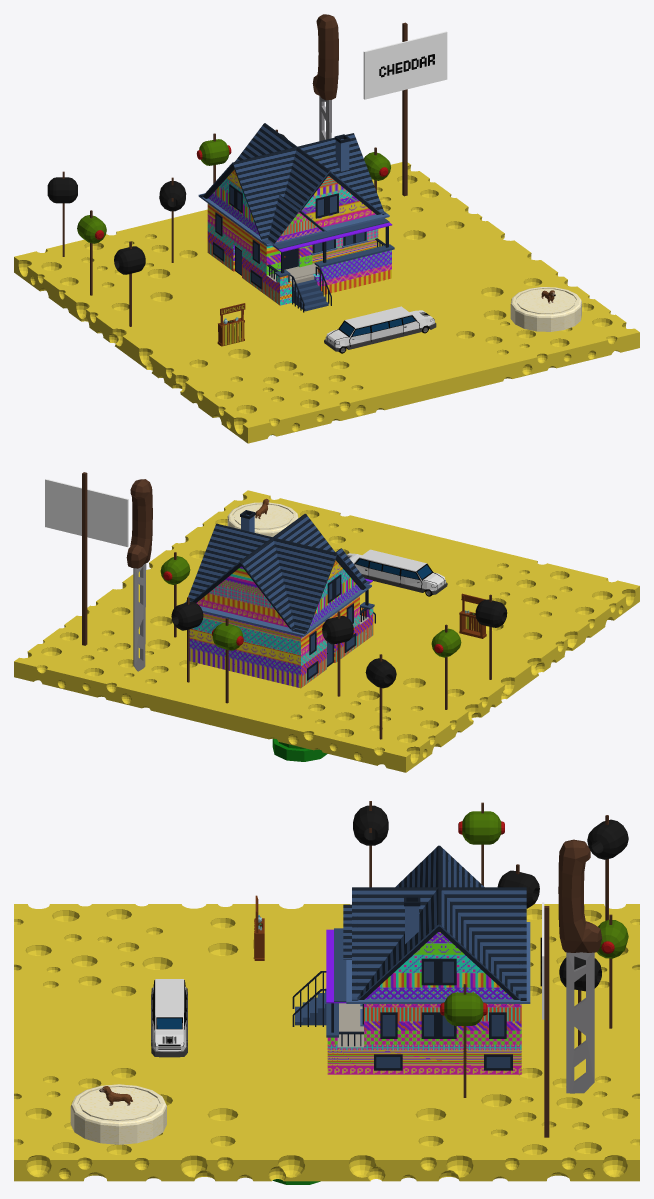
The picture shows the model from 3 angles, top to bottom: view 1: azimuth 30°, elevation 25°; view 2: azimuth 150°, elevation 25°; view 3: azimuth 270°, elevation 25°; orthographic projection. The views are drawn at different scales.
Visible parts, largest first — view 1: Cube.022, Cube.676, Cube.023, VEHICLES_LIMOUSINE, Cylinder.016, Cube.024, Sphere.017, Sphere.016, OBJRANDOM_LEMONADE_STAND, Sphere.020, Sphere.018, Sphere.022 (+1 smaller); view 2: Cube.022, Cube.676, Cube.023, Cube.024, VEHICLES_LIMOUSINE, Cylinder.016, Sphere.020, Sphere.016, Sphere.022, Sphere.017, Sphere.021, Sphere.018 (+3 smaller); view 3: Cube.022, Cube.676, Cube.024, Cylinder.016, VEHICLES_LIMOUSINE, Cube.023, Sphere.019, Sphere.016, Sphere.018, Sphere.017, Sphere.022, Sphere.020 (+2 smaller).
Boxes of the visible parts, x1,y1,x2,y2 form: Cube.022: (14,162,639,443); Cube.676: (198,123,394,312); Cube.023: (363,22,447,196); VEHICLES_LIMOUSINE: (324,306,436,353); Cylinder.016: (510,287,581,331); Cube.024: (312,14,338,141); Sphere.017: (114,241,145,326); Sphere.016: (47,171,77,256); OBJRANDOM_LEMONADE_STAND: (217,303,245,346); Sphere.020: (159,177,186,262); Sphere.018: (77,210,106,295); Sphere.022: (196,133,231,183); Cube.022: (14,490,639,772); Cube.676: (184,510,375,688); Cube.023: (45,472,128,645); Cube.024: (126,479,152,671); VEHICLES_LIMOUSINE: (347,549,447,596); Cylinder.016: (227,502,298,536); Sphere.020: (322,611,353,696); Sphere.016: (365,654,396,739); Sphere.022: (212,618,243,703); Sphere.017: (475,594,507,679); Sphere.021: (171,597,203,682); Sphere.018: (431,624,461,709); Cube.022: (14,904,639,1181); Cube.676: (292,845,530,1074); Cube.024: (558,839,602,1093); Cylinder.016: (70,1084,166,1144); VEHICLES_LIMOUSINE: (151,979,187,1057); Cube.023: (540,902,549,1137); Sphere.019: (440,984,487,1097); Sphere.016: (587,815,628,920); Sphere.018: (458,802,504,885); Sphere.017: (353,801,388,887); Sphere.022: (597,914,628,1028); Sphere.020: (497,864,539,908).
Bounding box in the file's own units: 3917 × 2590 × 4000.
41 materials, 7 textured.
